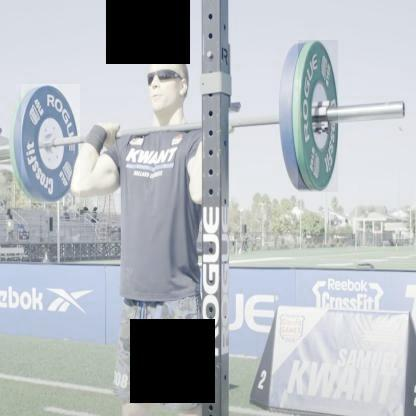barbell: (22, 85, 80, 203), (300, 41, 340, 193)
